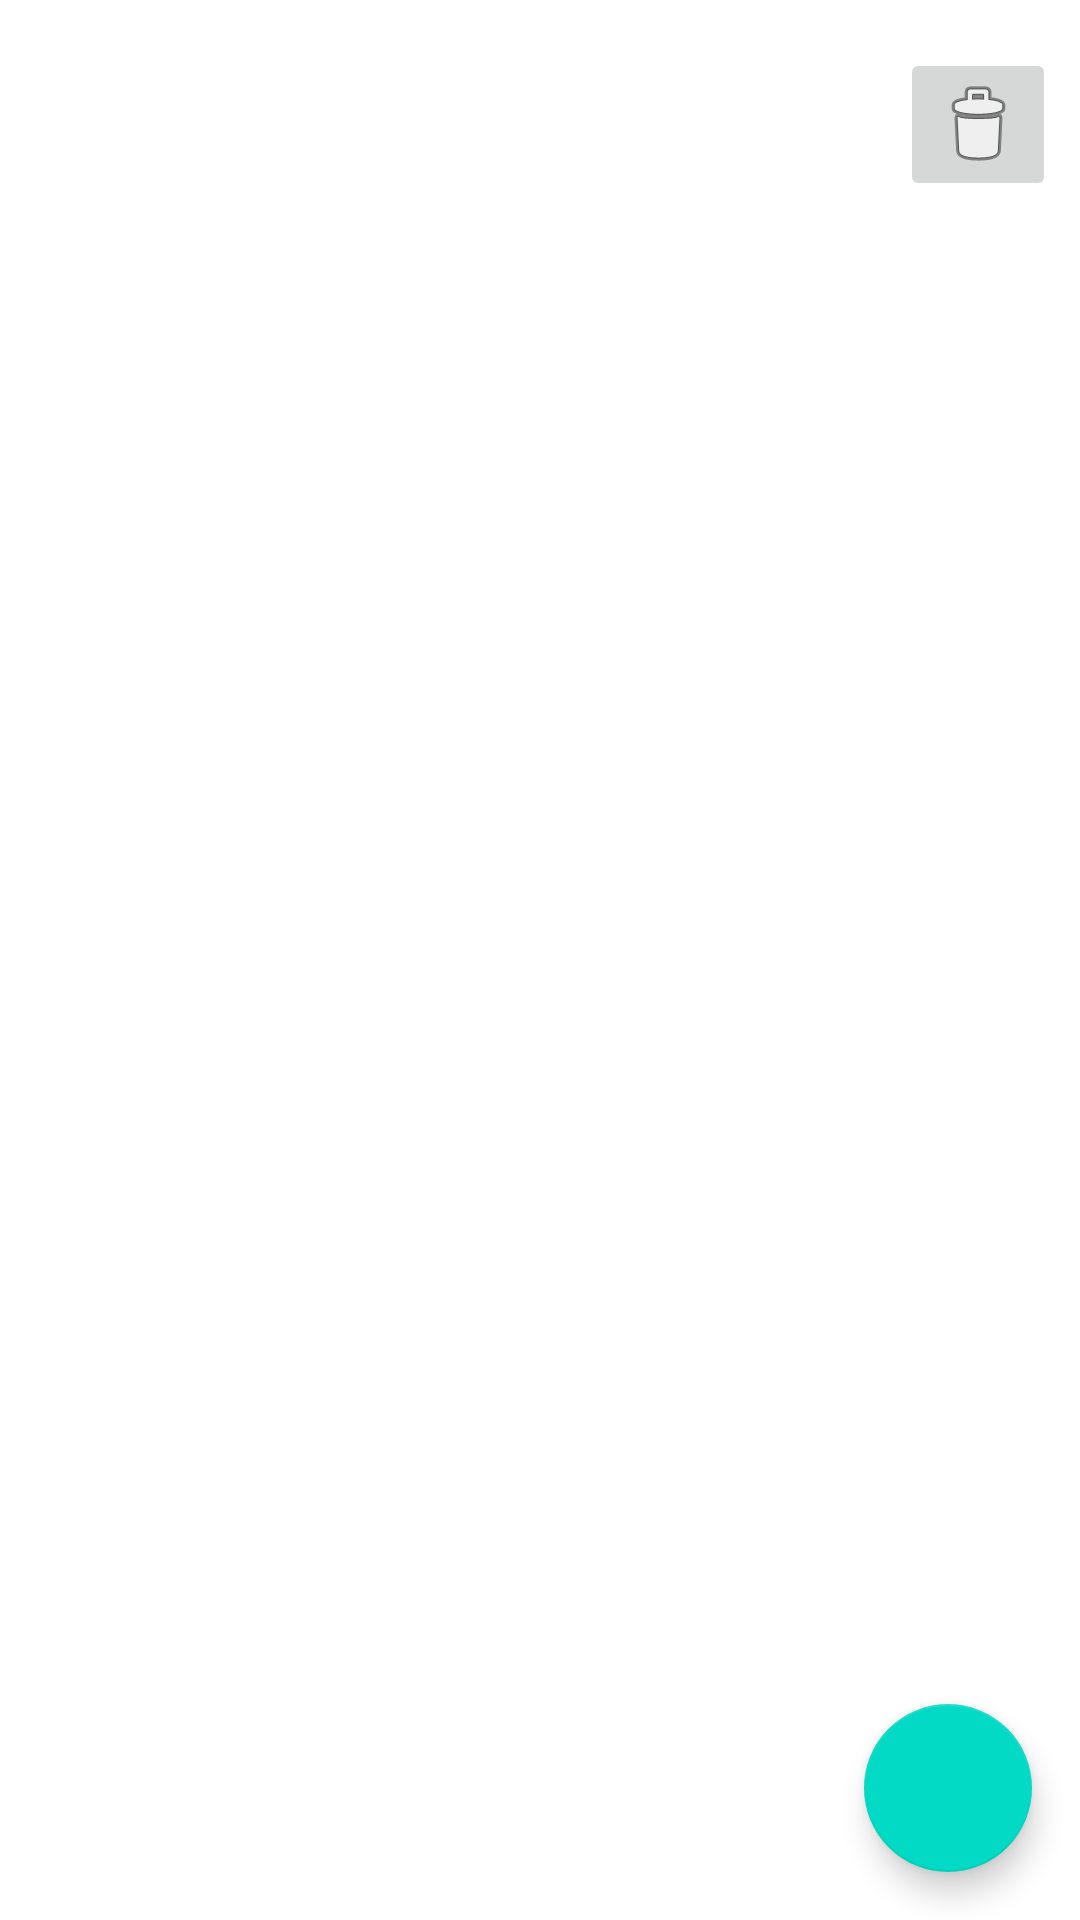

Where to tap for icons on this 1080 x 1920 app screen, as (x,y):
delete: (978,124)
